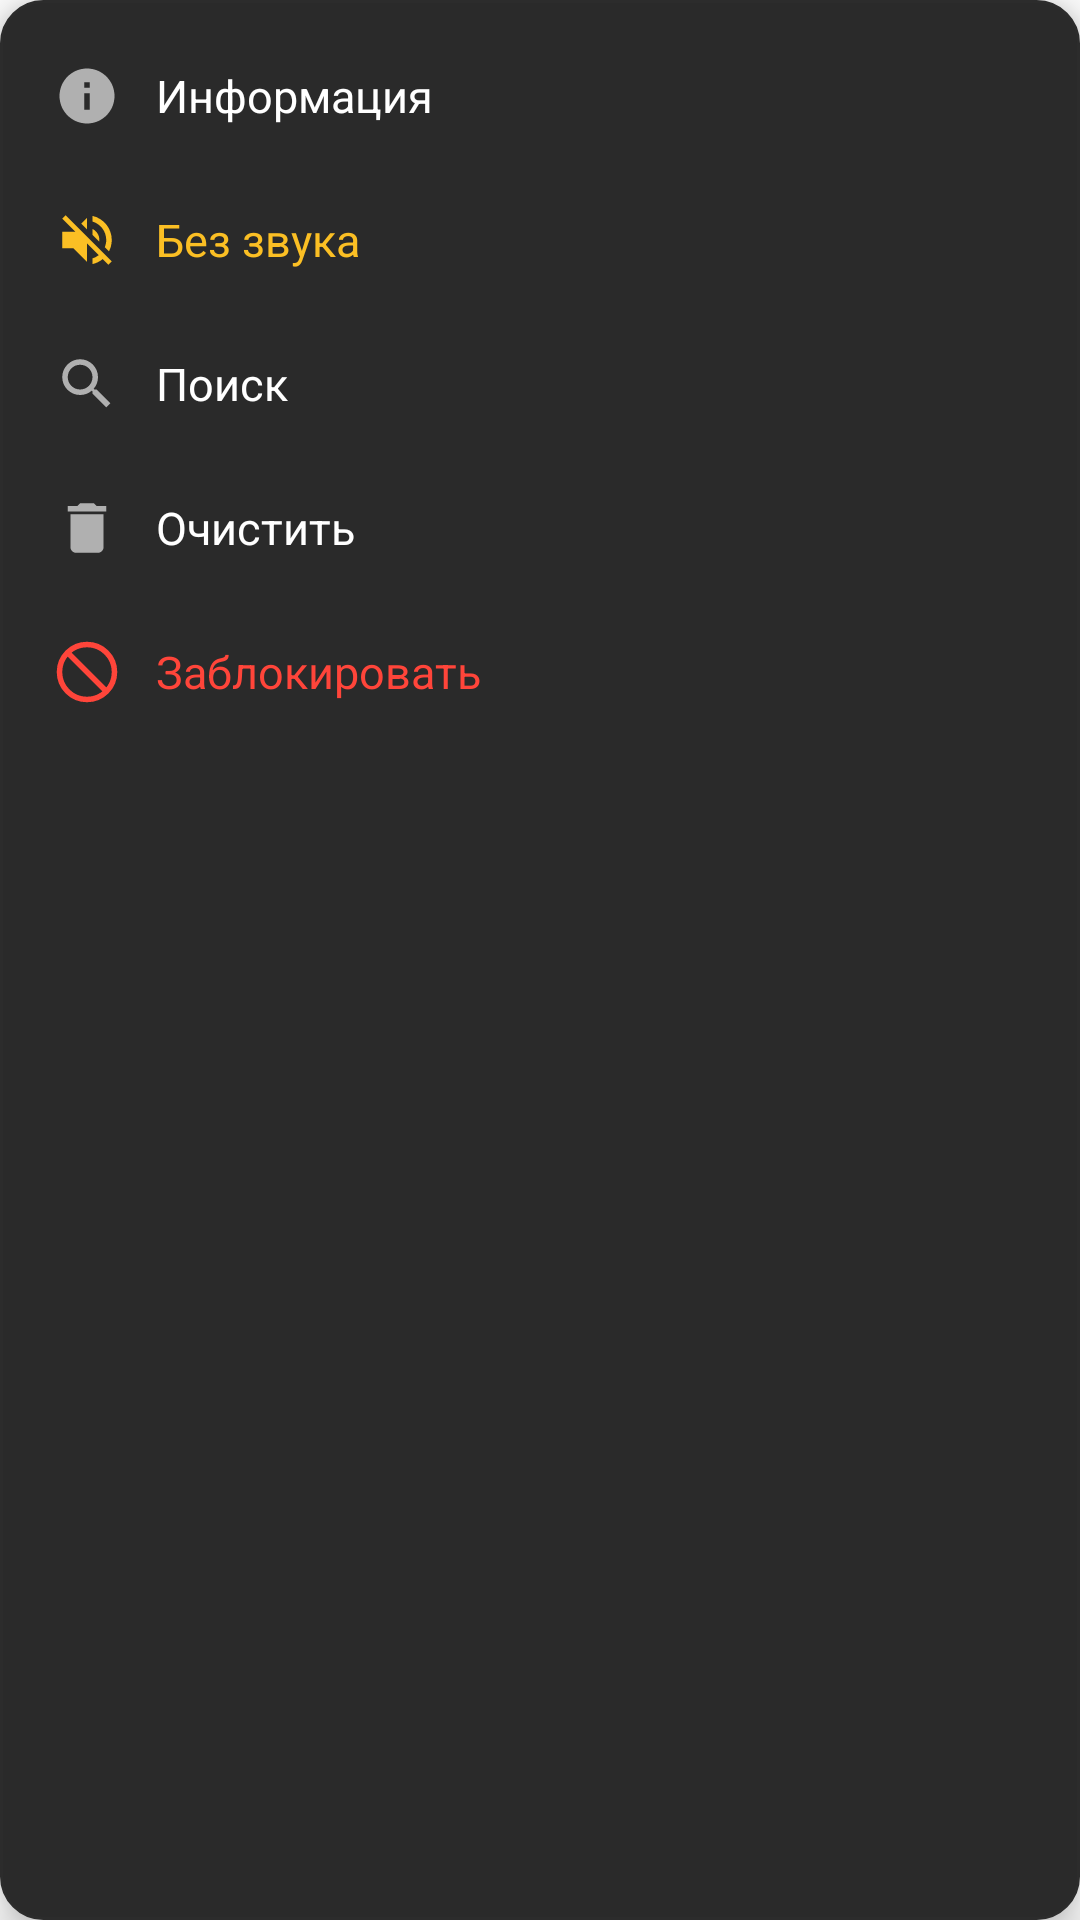

Screen size 1080x1920. Icon name, then its box in pixels as (x1, y1, x2, y2):
block: (56, 641, 118, 703)
delete: (67, 503, 107, 553)
info: (59, 68, 115, 124)
mute: (62, 215, 112, 265)
search: (62, 359, 110, 407)
